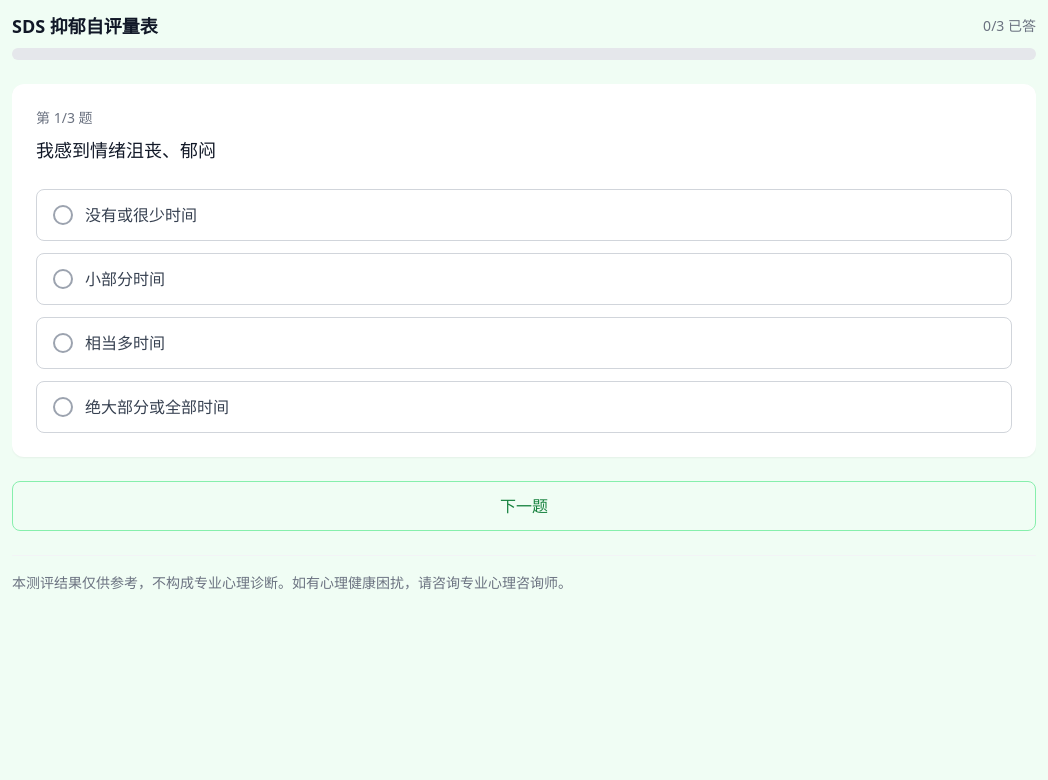
Test: AssessmentPage › auto-advances to next question after answer selection
expect the text "我感到情绪沮丧、郁闷" is shown: met, box [36,138,216,162]
Select an answer
Step 1. Click the button "小部分时间" → (125, 279), box [36,253,1012,305]
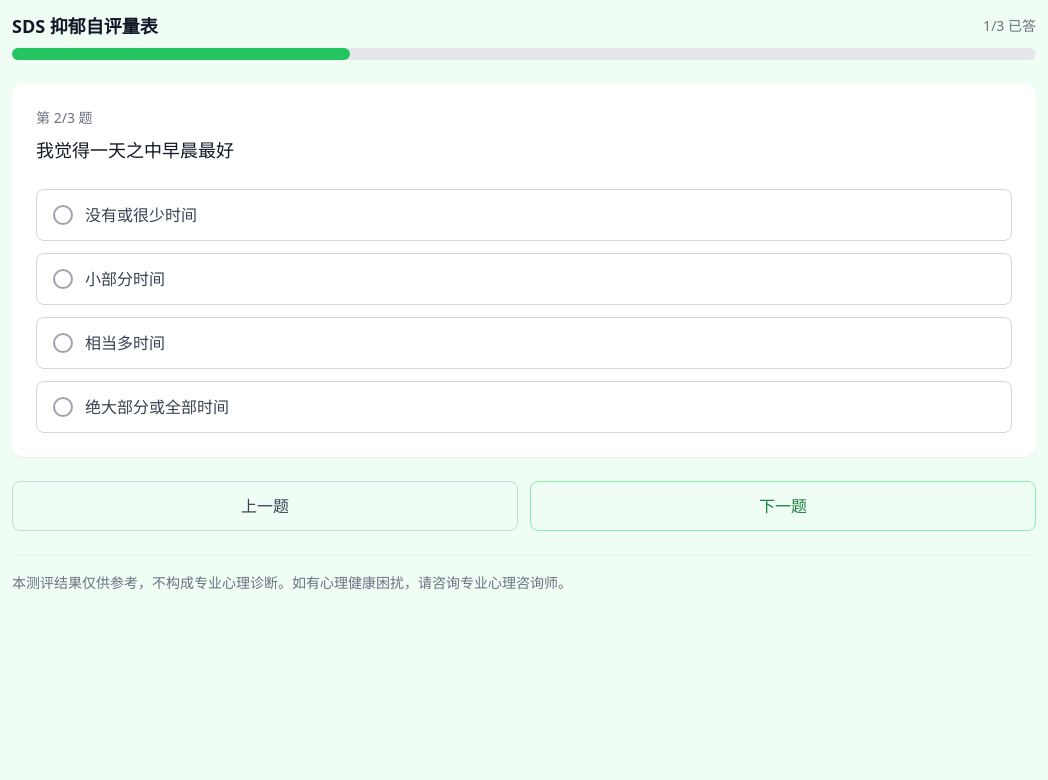
expect the text "我觉得一天之中早晨最好" is shown: met, box [36,138,234,162]
expect the text "第 2/3 题" is shown: met, box [36,108,92,127]
